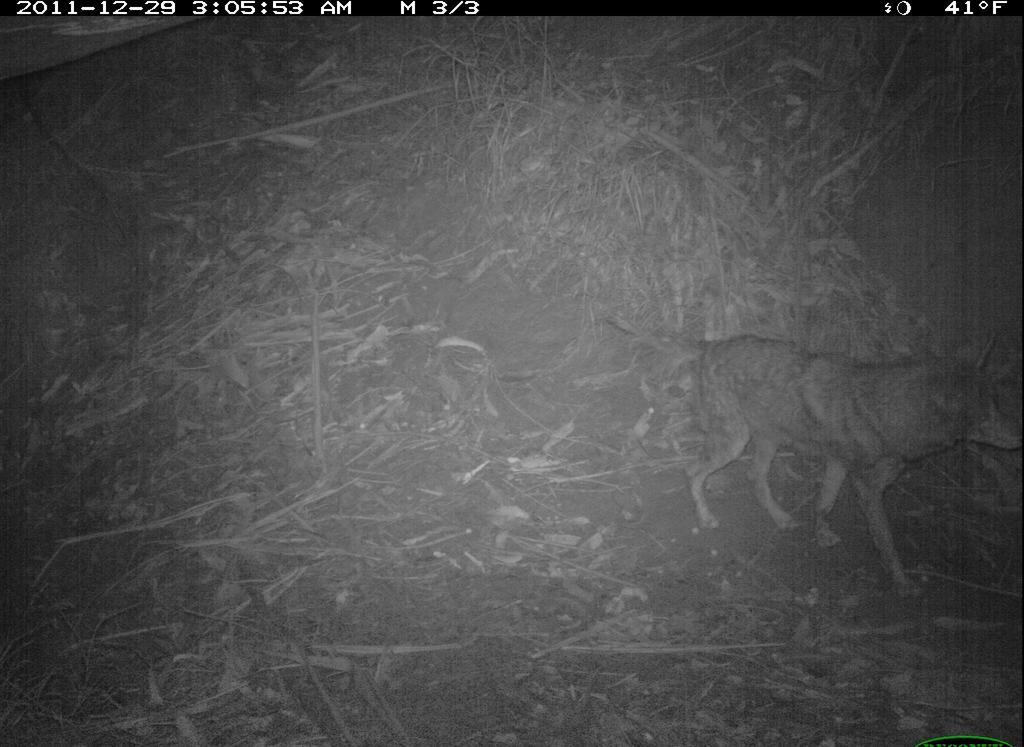coyote: (605, 308, 1023, 605)
